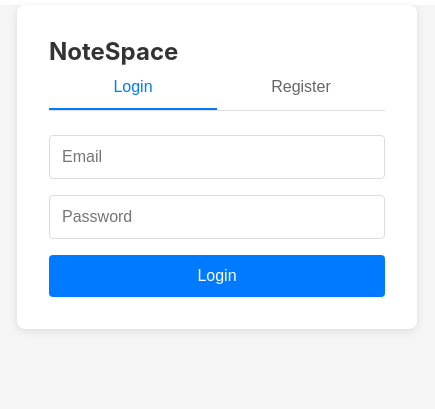
Test: Authentication Flow › User Registration › should switch to register form when clicking Register tab
Click the button "Register" at (301, 88), box [217,66,385,110]
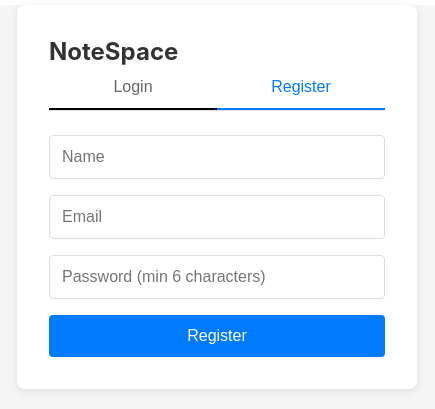
Expected: the field named "name" is shown, [49,135,385,179]
Expected: the password field named "password" is shown, [49,255,385,299]
